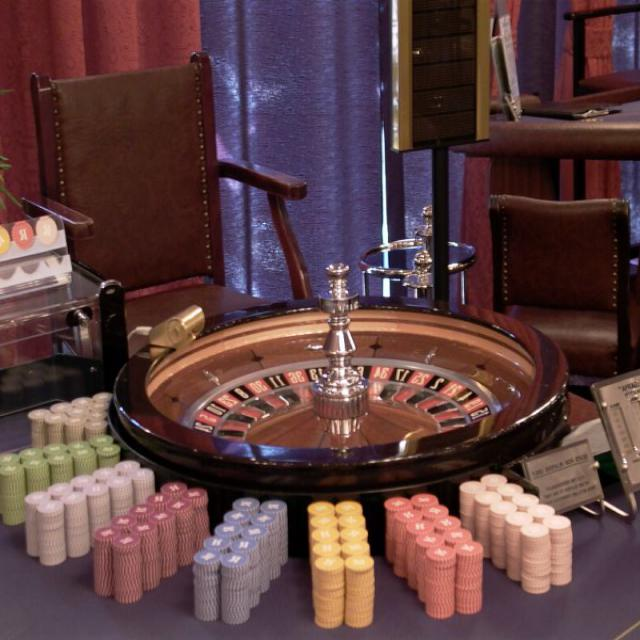armchair of dentist: (24, 50, 315, 356), (490, 193, 639, 375)
billboard: (524, 436, 604, 514)
chips: (96, 481, 211, 602), (460, 471, 574, 593), (26, 460, 156, 564), (386, 491, 484, 618), (195, 495, 290, 624), (2, 433, 121, 525), (310, 500, 375, 627), (31, 390, 110, 447)
curtain crop: (3, 1, 481, 391)
furniture crop: (468, 1, 639, 303)
roulette table: (110, 259, 571, 555)
scoreboard: (390, 0, 491, 298)
table -X: (3, 302, 639, 637)
